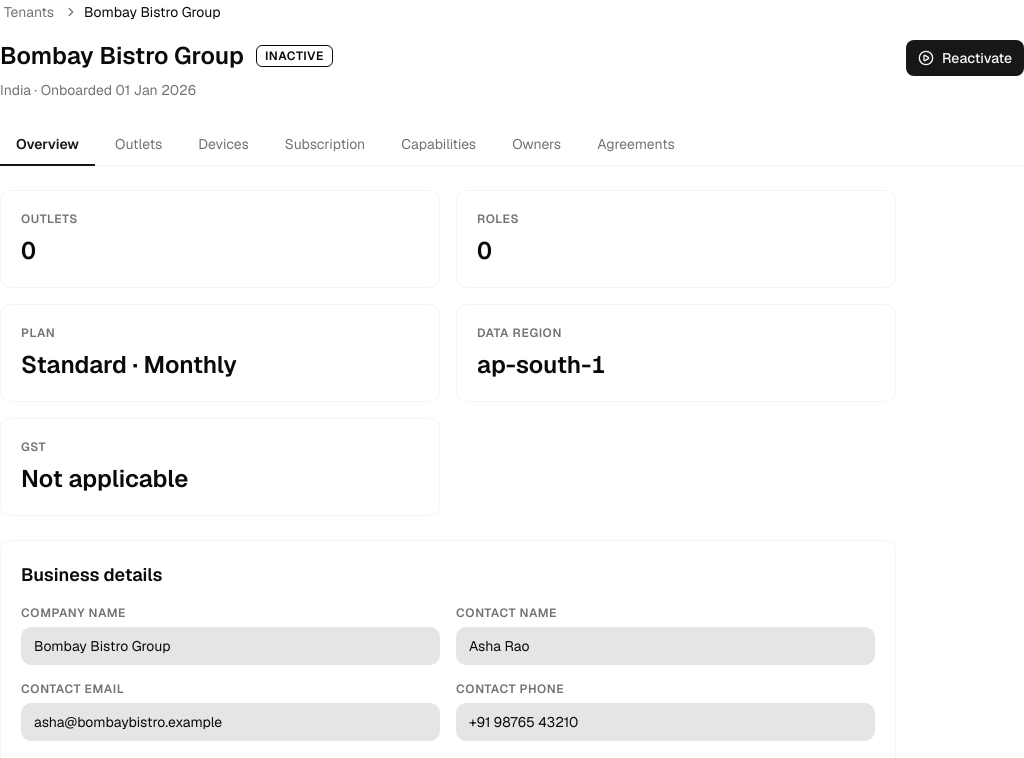
TenantDetailPage lifecycle actions › shows Reactivate (not Deactivate) for an inactive tenant and posts the reason
Click the button with test id "tenant-reactivate" at [965, 58], box [906, 40, 1023, 76]
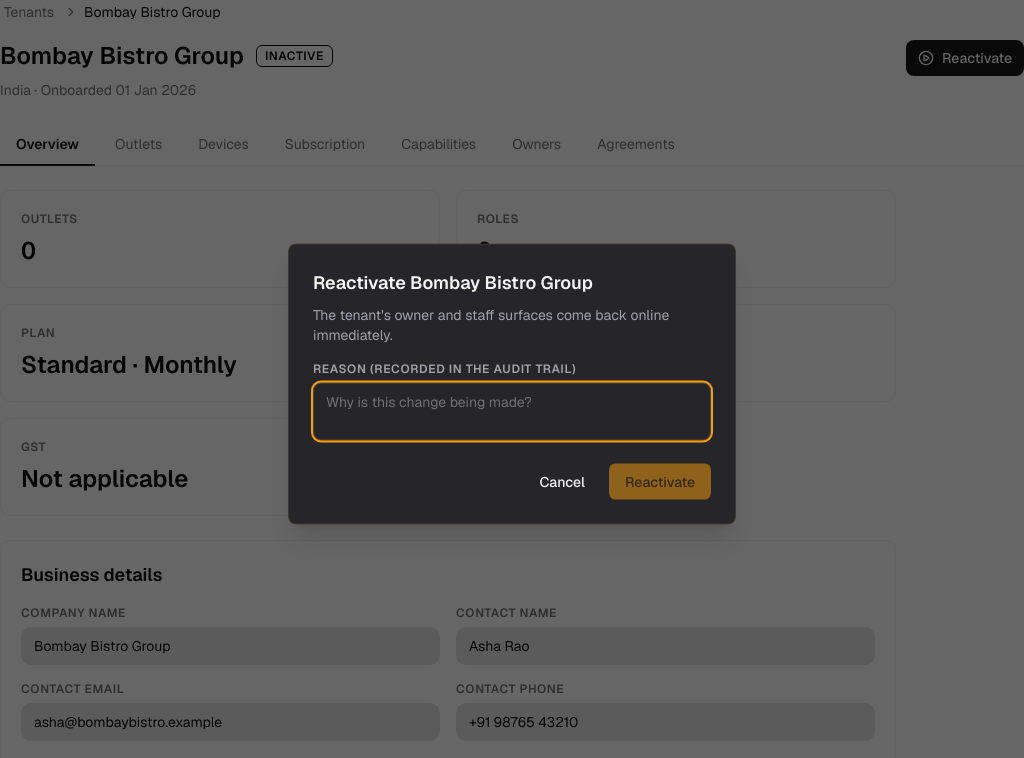
Type "Payment received" into the text box with test id "confirm-reason" at [512, 412], box [313, 382, 711, 440]
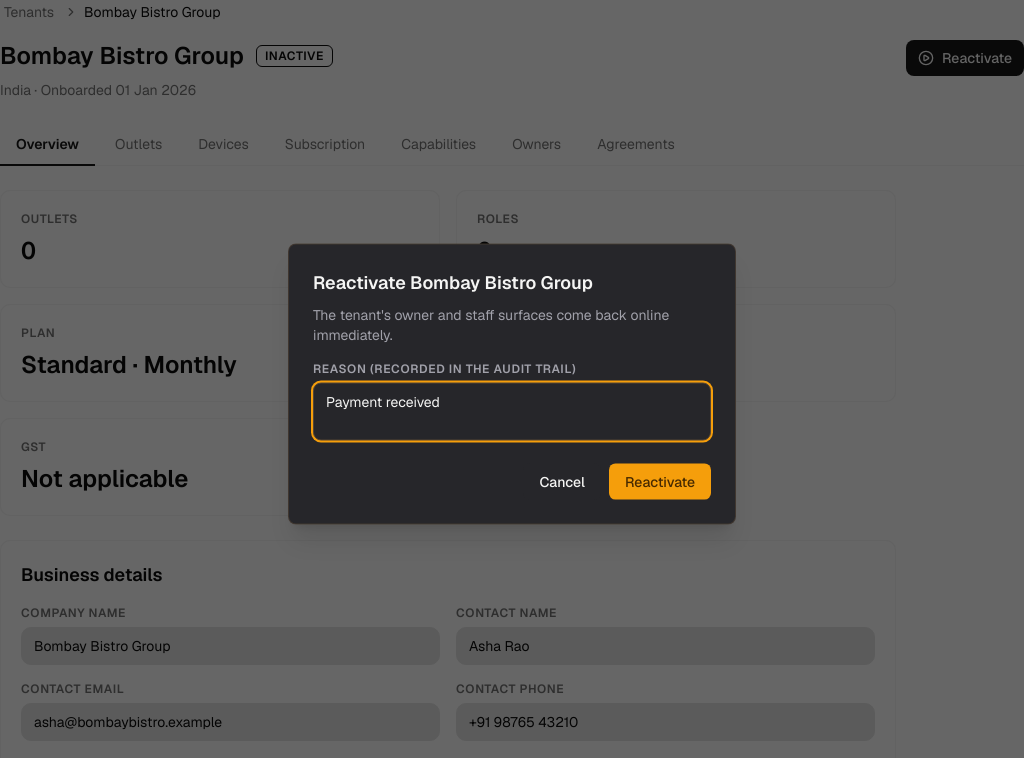
Click the button with test id "confirm-submit" at [660, 482], box [609, 464, 711, 500]
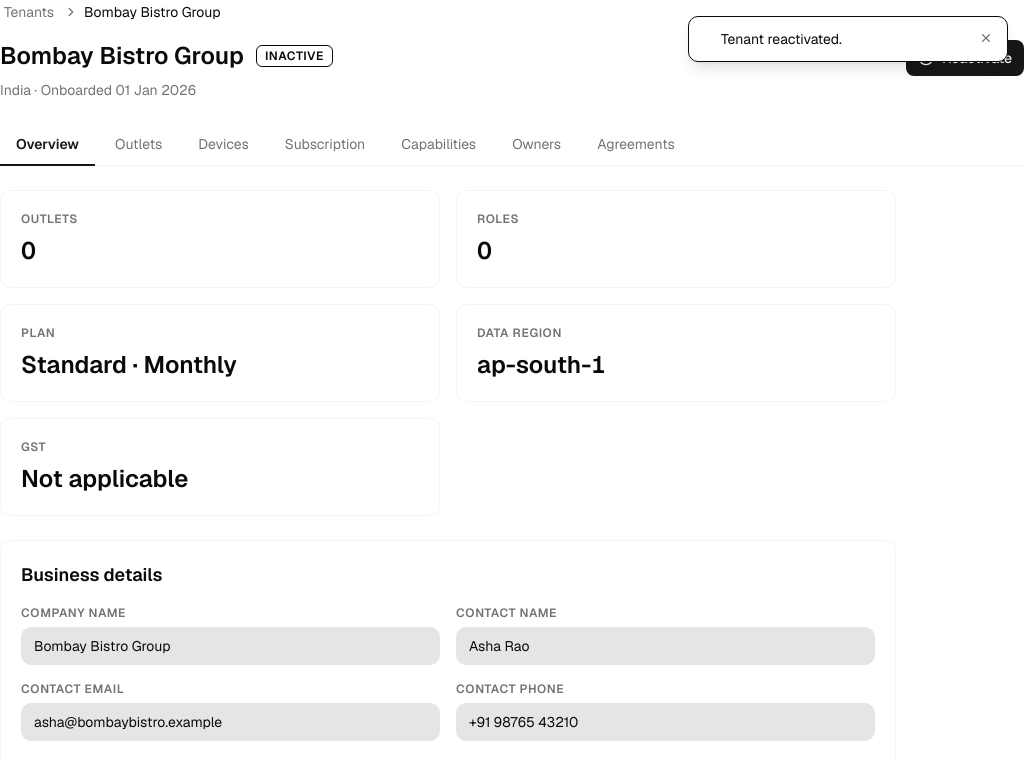
Check: the element with test id "toast-success" is shown, box [688, 16, 1008, 62]
